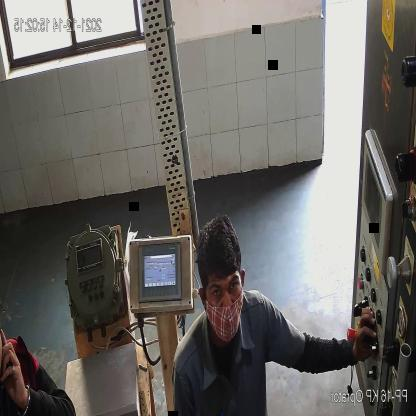no_goggles: (208, 269, 242, 302)
